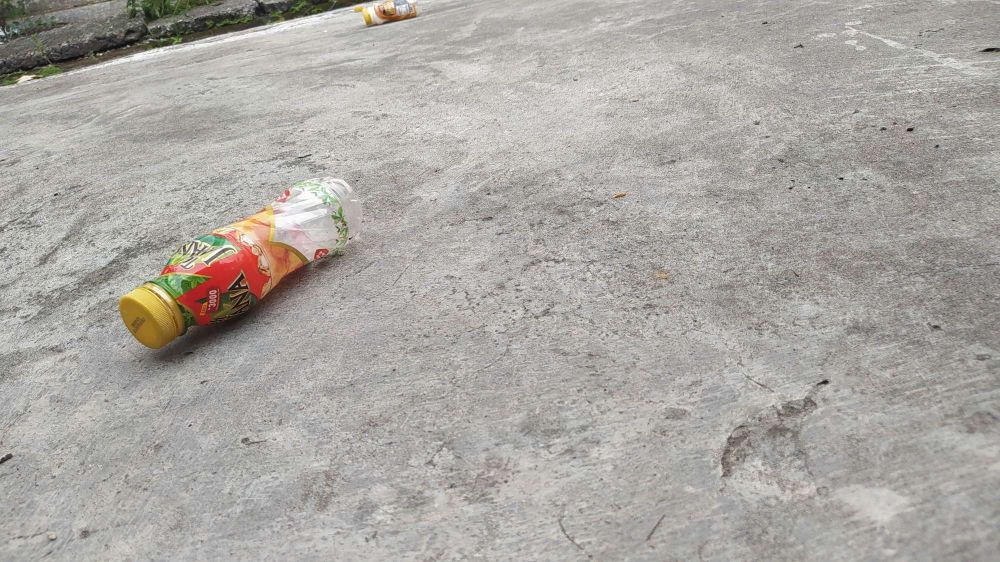botol: (91, 169, 401, 351), (330, 1, 442, 31)
